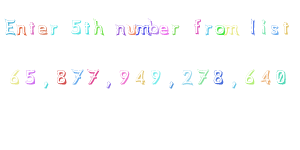,: (104, 79, 114, 91), (167, 78, 176, 91), (41, 80, 50, 90), (231, 80, 239, 90)
0: (275, 68, 287, 84)
2: (181, 68, 194, 85)
4: (134, 69, 146, 86), (260, 68, 271, 85)
5: (24, 68, 37, 86), (70, 17, 82, 36)
6: (244, 68, 257, 85), (9, 68, 20, 85)
7: (71, 68, 84, 86), (87, 68, 100, 86), (198, 68, 209, 85)
8: (212, 69, 225, 86), (55, 69, 68, 85)
9: (118, 68, 130, 86), (150, 69, 162, 86)
E: (4, 19, 16, 35)
b: (147, 17, 159, 36)
e: (37, 24, 48, 36), (159, 24, 169, 36)
f: (193, 17, 202, 35)
h: (93, 17, 105, 35)
i: (259, 19, 268, 35)
l: (250, 17, 256, 35)
m: (134, 23, 150, 36), (224, 24, 239, 36)
n: (115, 21, 126, 35), (15, 24, 26, 36)
o: (215, 24, 226, 36)
r: (203, 24, 213, 36), (50, 24, 58, 35), (171, 24, 179, 35)
s: (270, 23, 279, 35)
t: (282, 20, 290, 35), (28, 21, 36, 35), (84, 21, 91, 36)
u: (126, 23, 138, 35)
